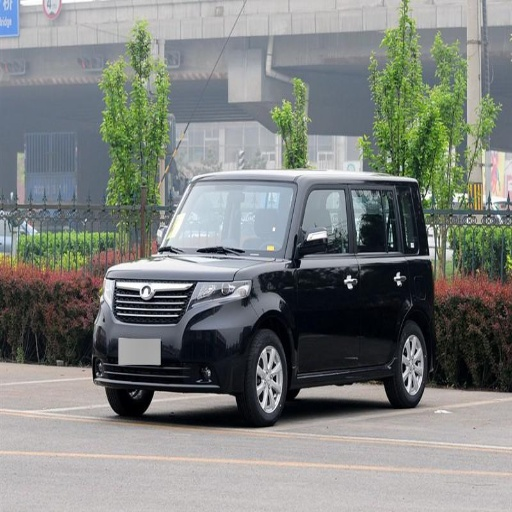front_bumper: (92, 280, 256, 386)
front_glass: (162, 183, 296, 251)
front_left_door: (289, 183, 359, 373)
